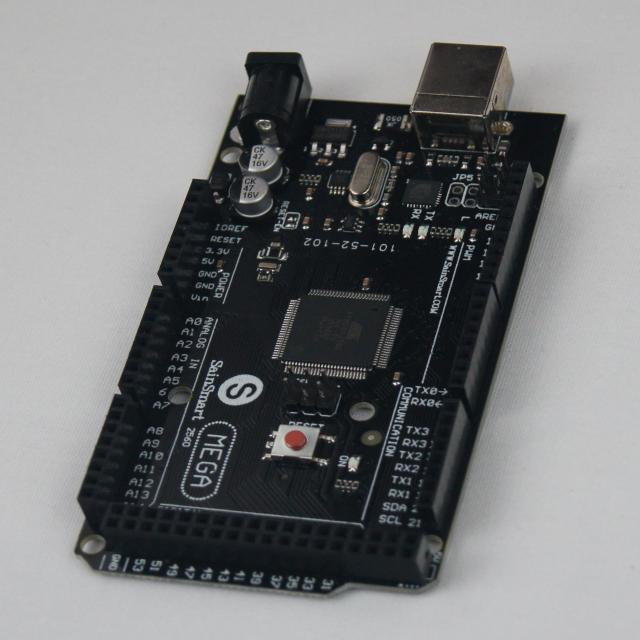Arduino Mega 2560 -Black-: (77, 44, 565, 594)
